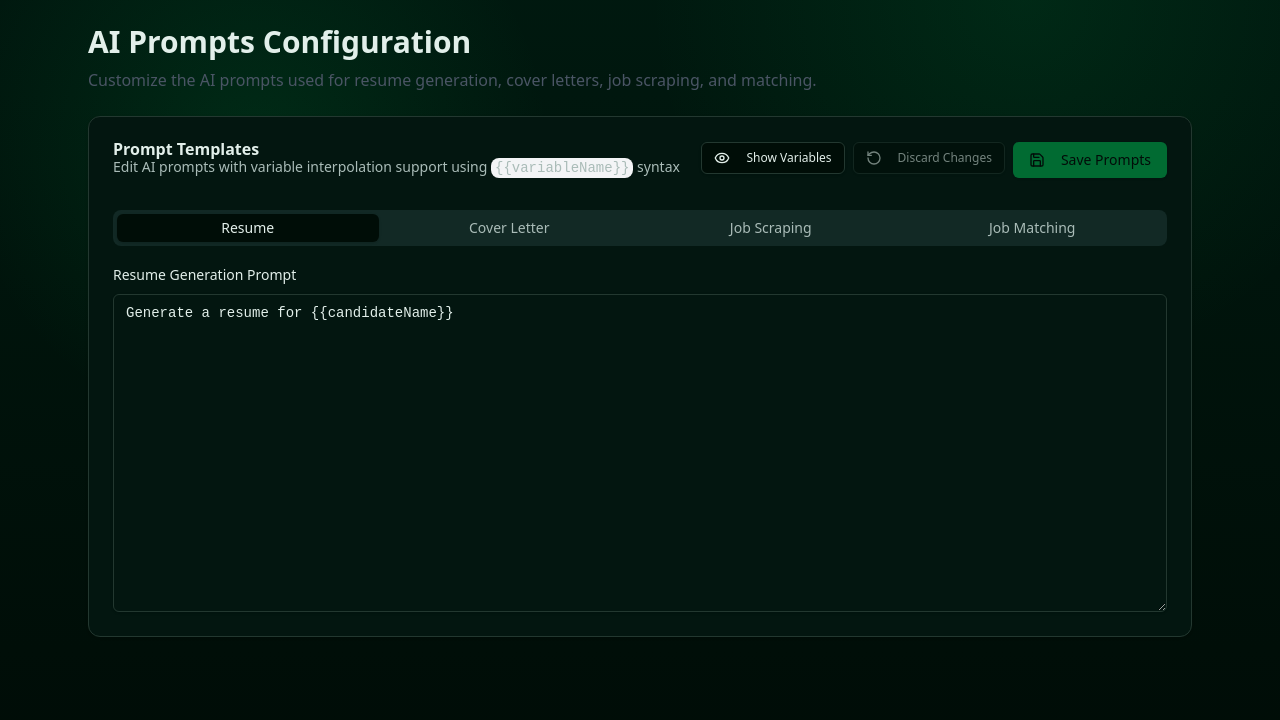
Test: AIPromptsPage › enables save button when content changes
This screenshot has width=1280, height=720.
Expected: the button "Save Prompts" is disabled, 1013,142 -> 1167,178
In the text box labelled "Resume Generation Prompt": x=640, y=453 113,294 -> 1167,612, type " new content"
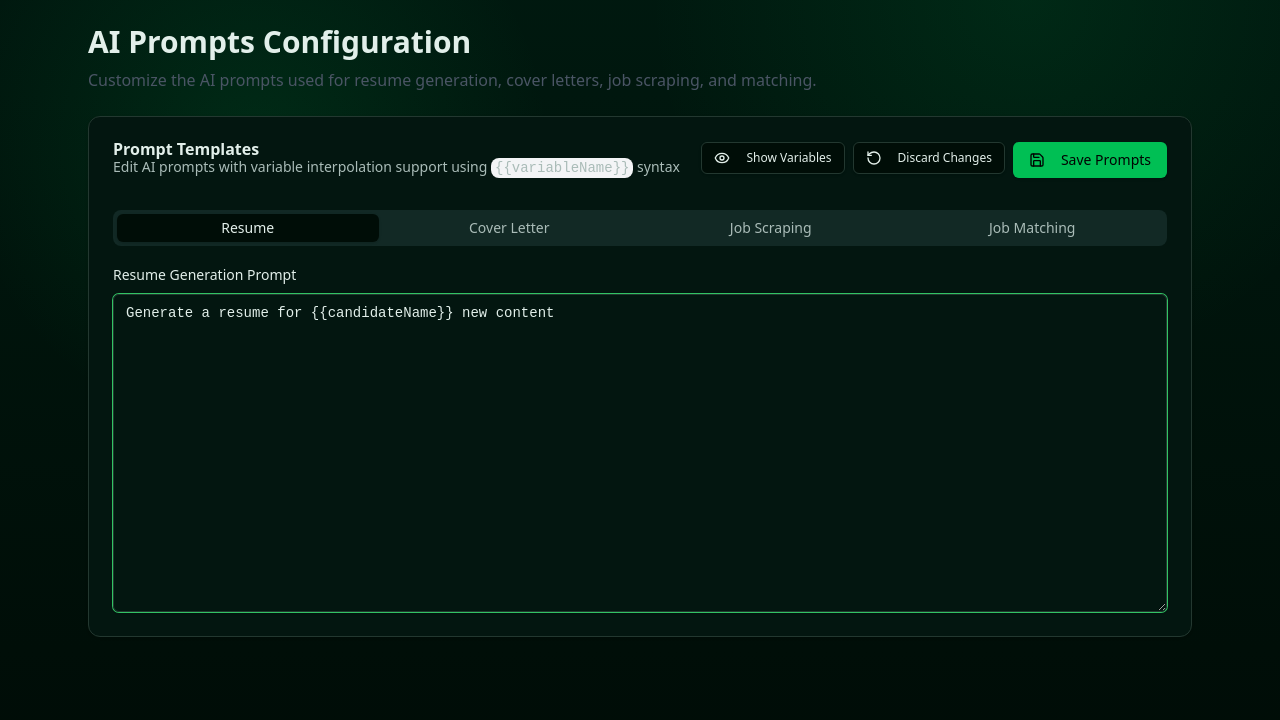
Result: the button "Save Prompts" is enabled at 1013,142 -> 1167,178
